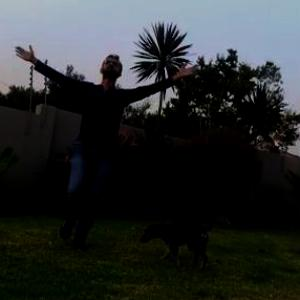takeoff: (15, 50, 184, 244)
